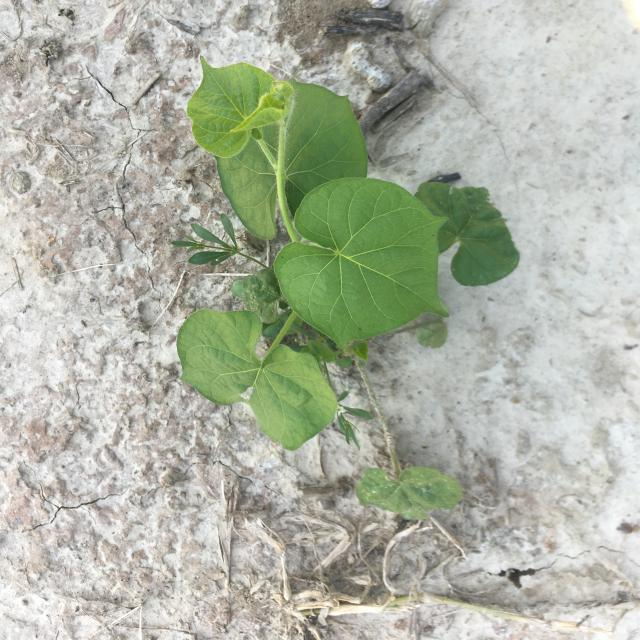MorningGlory: (176, 55, 521, 522)
